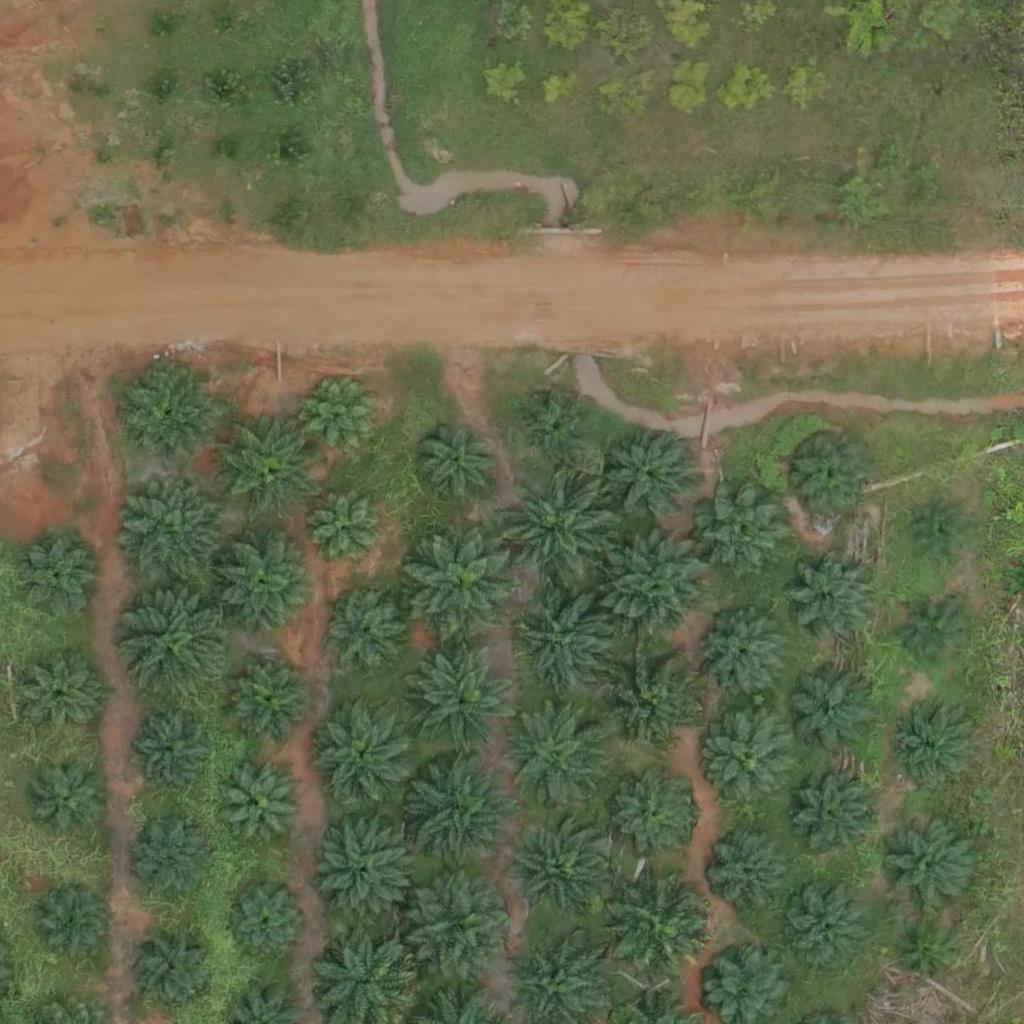Kelapa_Sawit: (504, 460, 629, 585), (119, 477, 232, 591), (125, 584, 238, 698), (406, 524, 519, 637), (411, 643, 524, 756), (405, 752, 518, 865), (405, 870, 517, 984), (120, 364, 220, 465), (218, 415, 318, 516), (519, 590, 619, 691), (509, 705, 609, 806), (509, 826, 609, 927), (607, 536, 707, 637), (599, 652, 699, 753), (613, 875, 713, 976), (218, 535, 318, 635), (315, 702, 415, 802), (318, 816, 418, 916), (705, 714, 793, 803), (608, 434, 696, 522), (609, 769, 697, 857), (705, 826, 793, 914), (888, 701, 976, 789), (415, 420, 502, 509), (303, 373, 390, 461), (226, 879, 313, 967), (135, 924, 222, 1012), (699, 488, 786, 576), (701, 613, 788, 701), (789, 555, 876, 643), (787, 668, 874, 756), (787, 770, 874, 858), (781, 888, 868, 976), (888, 820, 975, 908), (24, 658, 99, 734), (794, 434, 869, 510), (19, 538, 94, 614), (139, 711, 214, 787), (137, 825, 212, 901), (231, 664, 306, 740), (226, 768, 301, 844), (333, 597, 408, 673), (308, 490, 383, 565), (30, 886, 105, 961), (32, 758, 107, 833), (905, 600, 967, 663), (528, 397, 590, 460), (901, 930, 951, 981), (915, 510, 965, 560)
